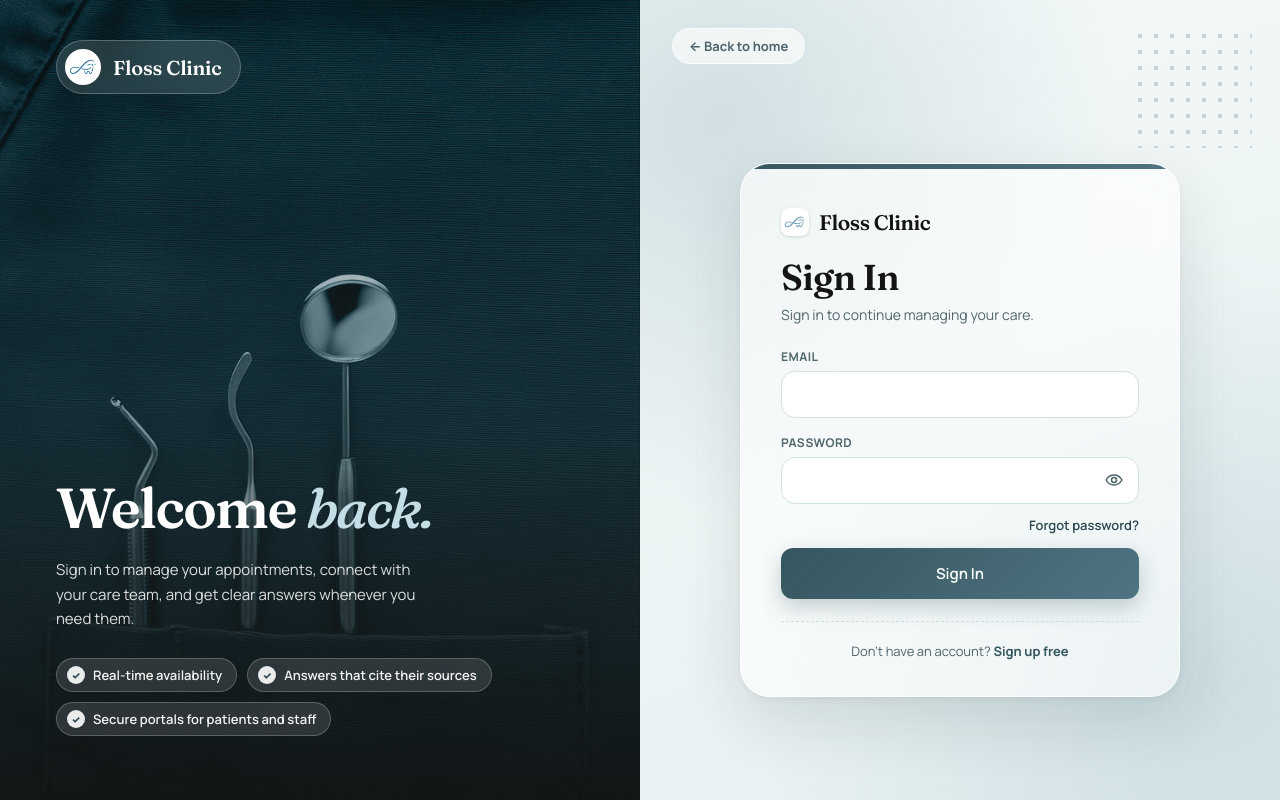
Scenario: LoginPage › for the email 2FA method, prompts for an emailed code and offers a resend link
Type "patient@floss.demo" into the field labelled "Email" at (960, 394), box [781, 371, 1139, 418]
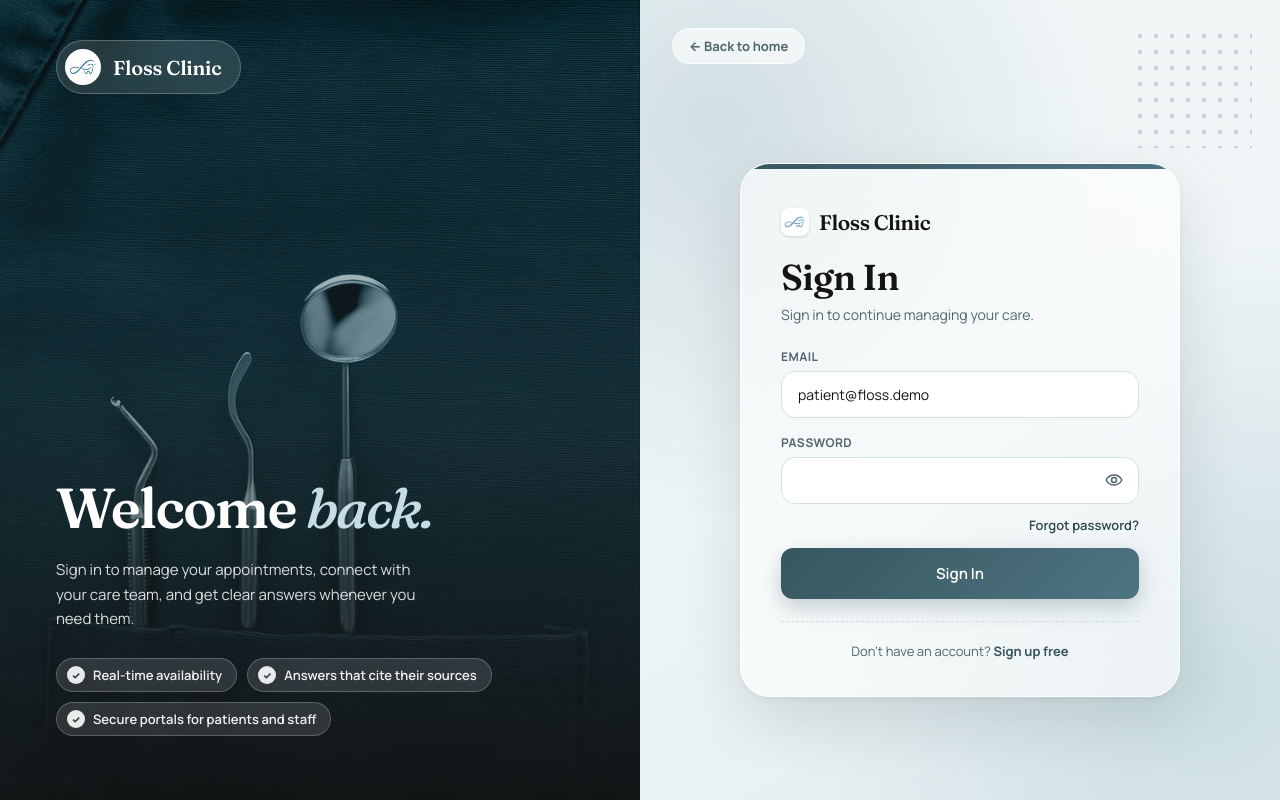
Type "password123" into the password field labelled "Password" at (960, 480), box [781, 457, 1139, 504]
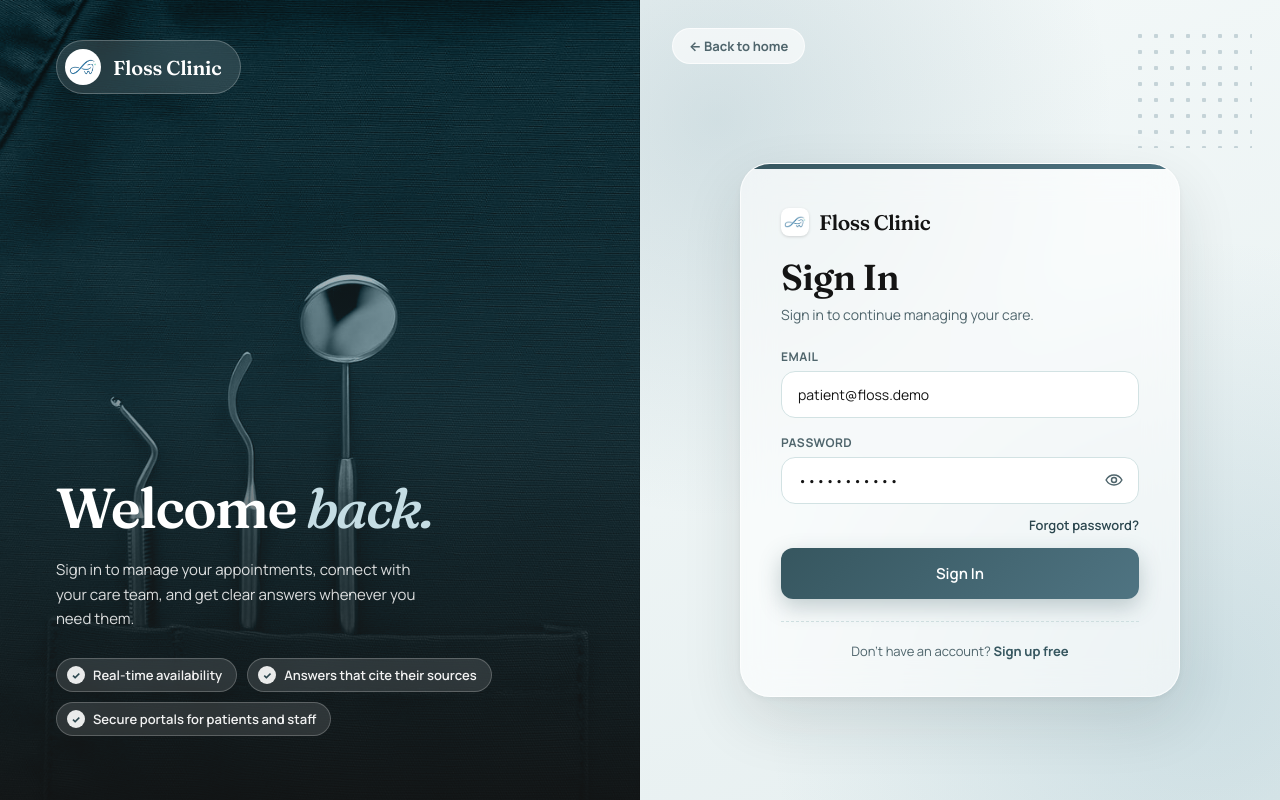
Click the button "Sign In" at (960, 574), box [781, 548, 1139, 599]
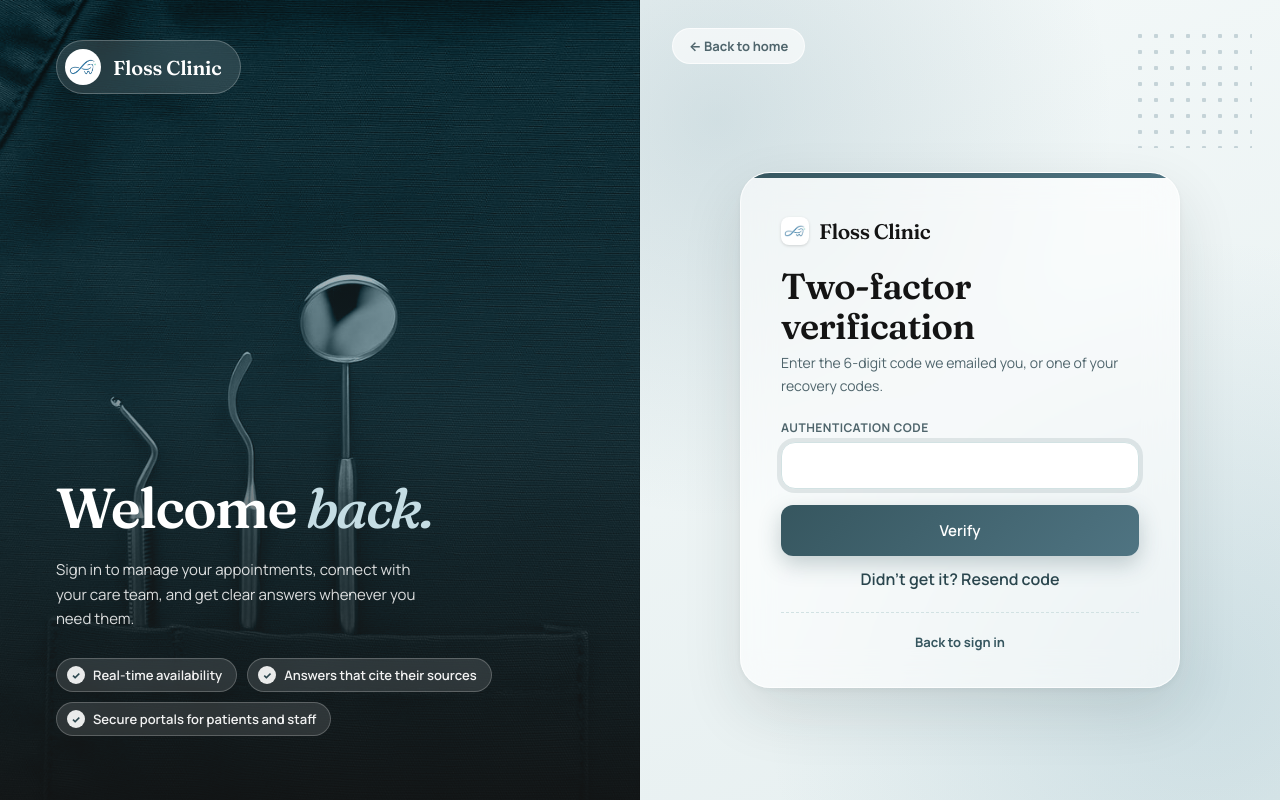
Check: the text "code we emailed you" is shown, box [781, 353, 1118, 395]
Check: the button "Didn't get it? Resend code" is shown, box [860, 568, 1059, 590]
